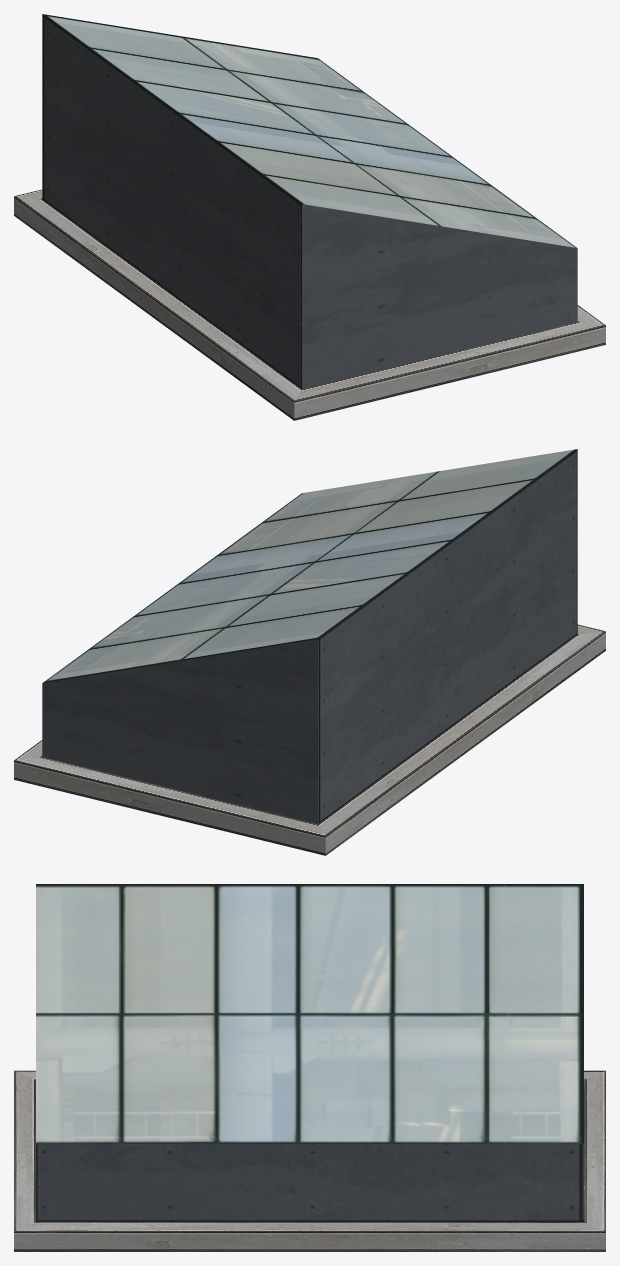
The model's file is roof addon5.FBX.
3 views of the same model, one above another, from view 1: azimuth 30°, elevation 25°; view 2: azimuth 150°, elevation 25°; view 3: azimuth 270°, elevation 25° (orthographic). The views are drawn at different scales.
Parts seen in each view (by area): view 1: roof addon5; view 2: roof addon5; view 3: roof addon5.
Boxes of the visible parts, left/top/right/bottom form: roof addon5: left=14, top=14, right=605, bottom=420; roof addon5: left=14, top=449, right=605, bottom=855; roof addon5: left=14, top=884, right=605, bottom=1251.
Size of the model in its own units: 9.02 by 5.66 by 14.04.
